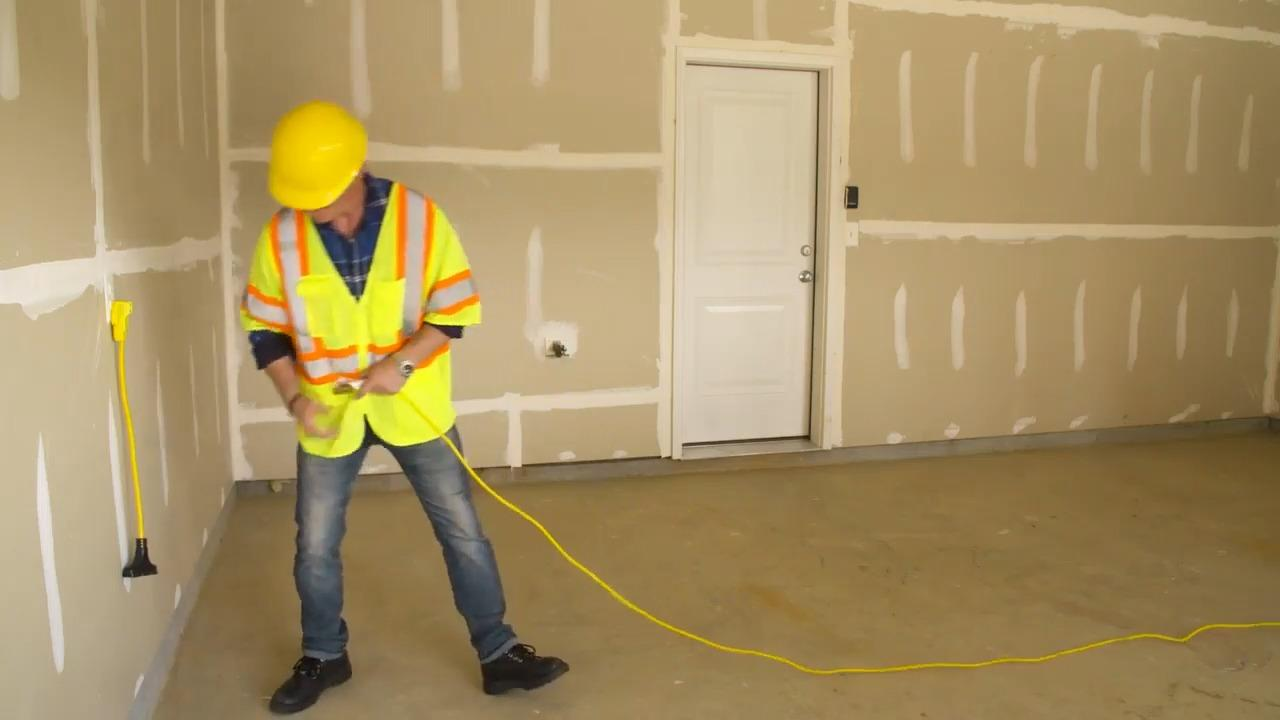Helmet: (266, 98, 368, 211)
Person: (233, 80, 561, 703)
Safety Boot: (268, 651, 352, 716), (480, 641, 569, 695)
Safety Vest: (239, 174, 481, 458)
bare-arms: (282, 377, 330, 436), (352, 356, 411, 397)
